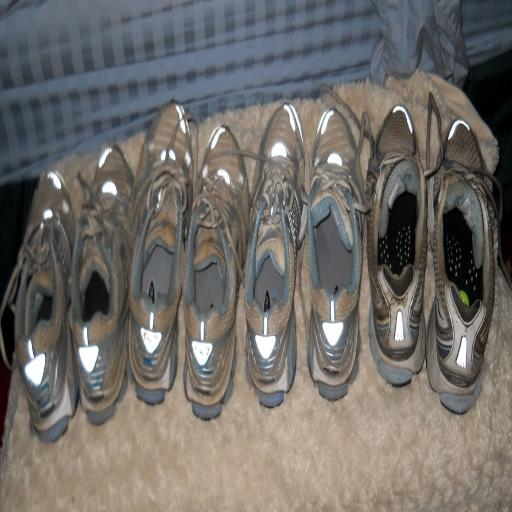shoe: (426, 120, 498, 413), (2, 171, 78, 442), (128, 102, 194, 404), (245, 103, 309, 407), (183, 126, 249, 420), (305, 108, 366, 400), (70, 146, 133, 424), (366, 105, 428, 386)
